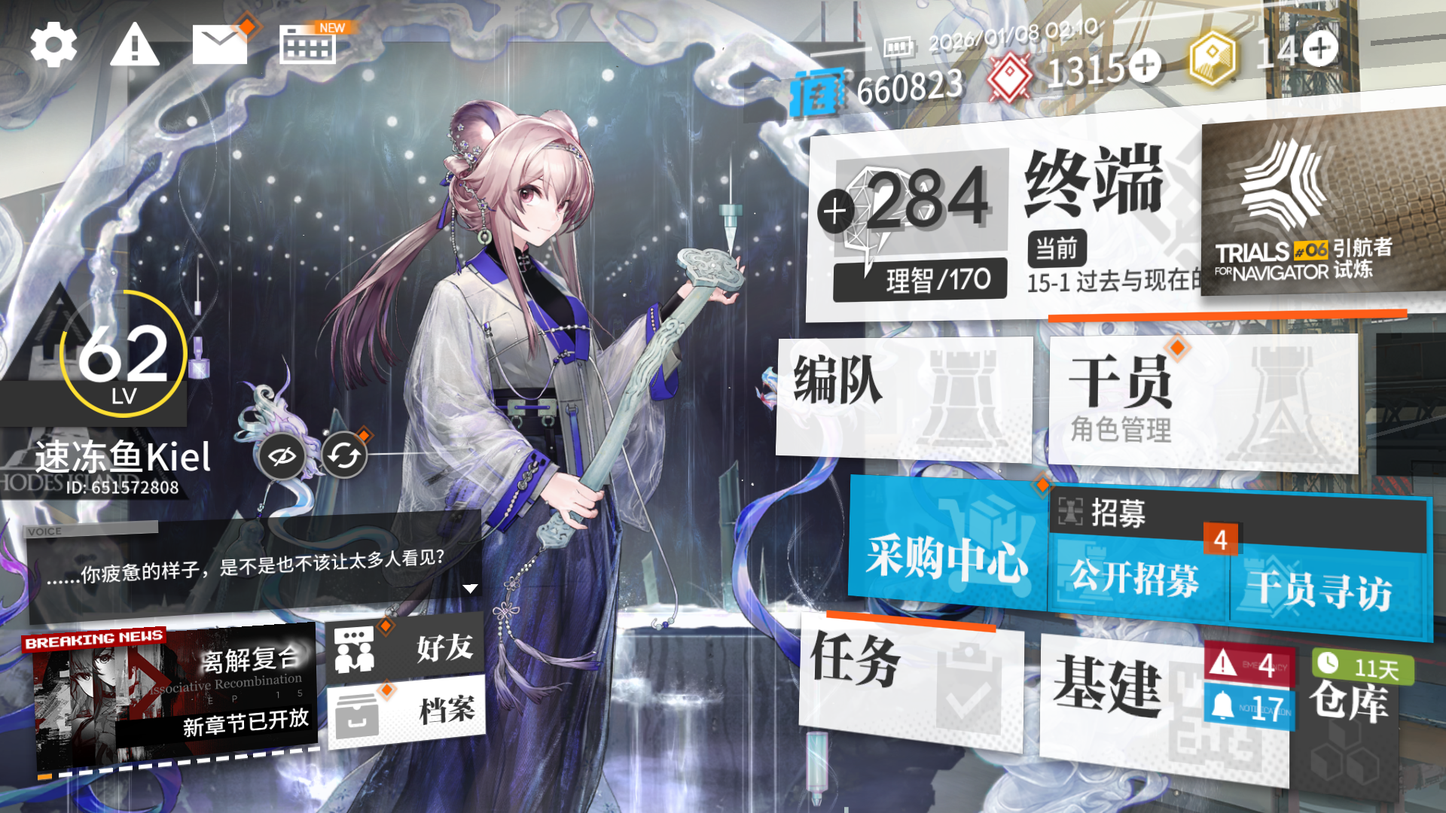home_button: (1017, 137, 1195, 235)
infrastructure_button: (1028, 631, 1286, 774)
